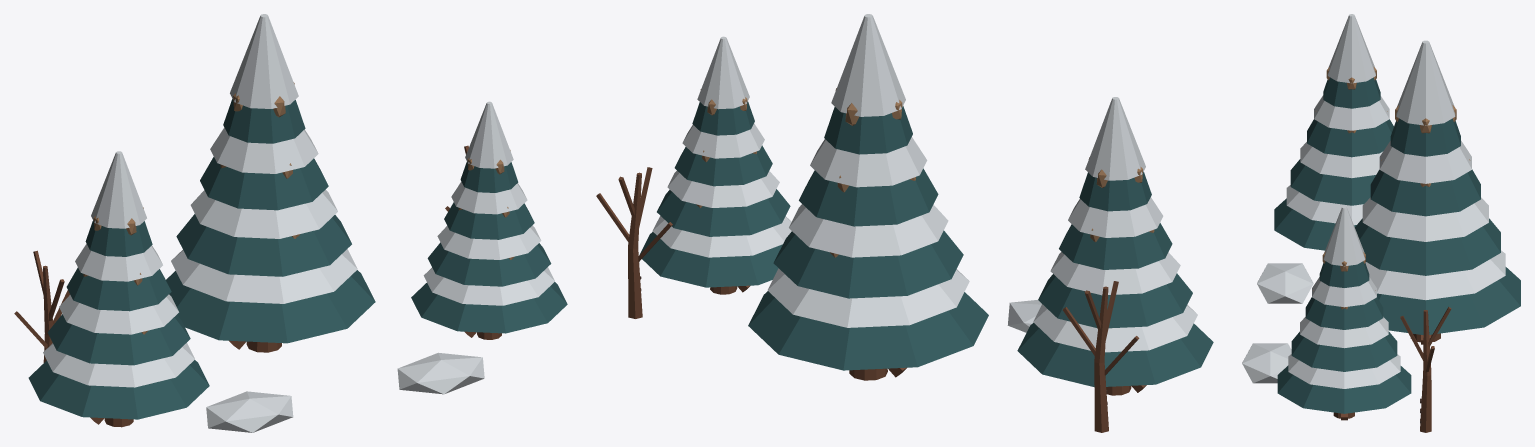
Rendered from Frosty_SnowyPineGrove_Showcase.glb.
3 renders of one model, left to right at view 1: azimuth 30°, elevation 25°; view 2: azimuth 150°, elevation 25°; view 3: azimuth 270°, elevation 25°, orthographic. The views are drawn at different scales.
Visible parts, largest first — view 1: Frosty_SnowyPineGrove_Showcase; view 2: Frosty_SnowyPineGrove_Showcase; view 3: Frosty_SnowyPineGrove_Showcase.
Part boxes in pixels (x1=…): Frosty_SnowyPineGrove_Showcase: x1=14, y1=14, x2=567, y2=432; Frosty_SnowyPineGrove_Showcase: x1=596, y1=14, x2=1213, y2=432; Frosty_SnowyPineGrove_Showcase: x1=1242, y1=14, x2=1520, y2=432.
Size of the model in its own units: 7.15 by 4.39 by 3.77.
